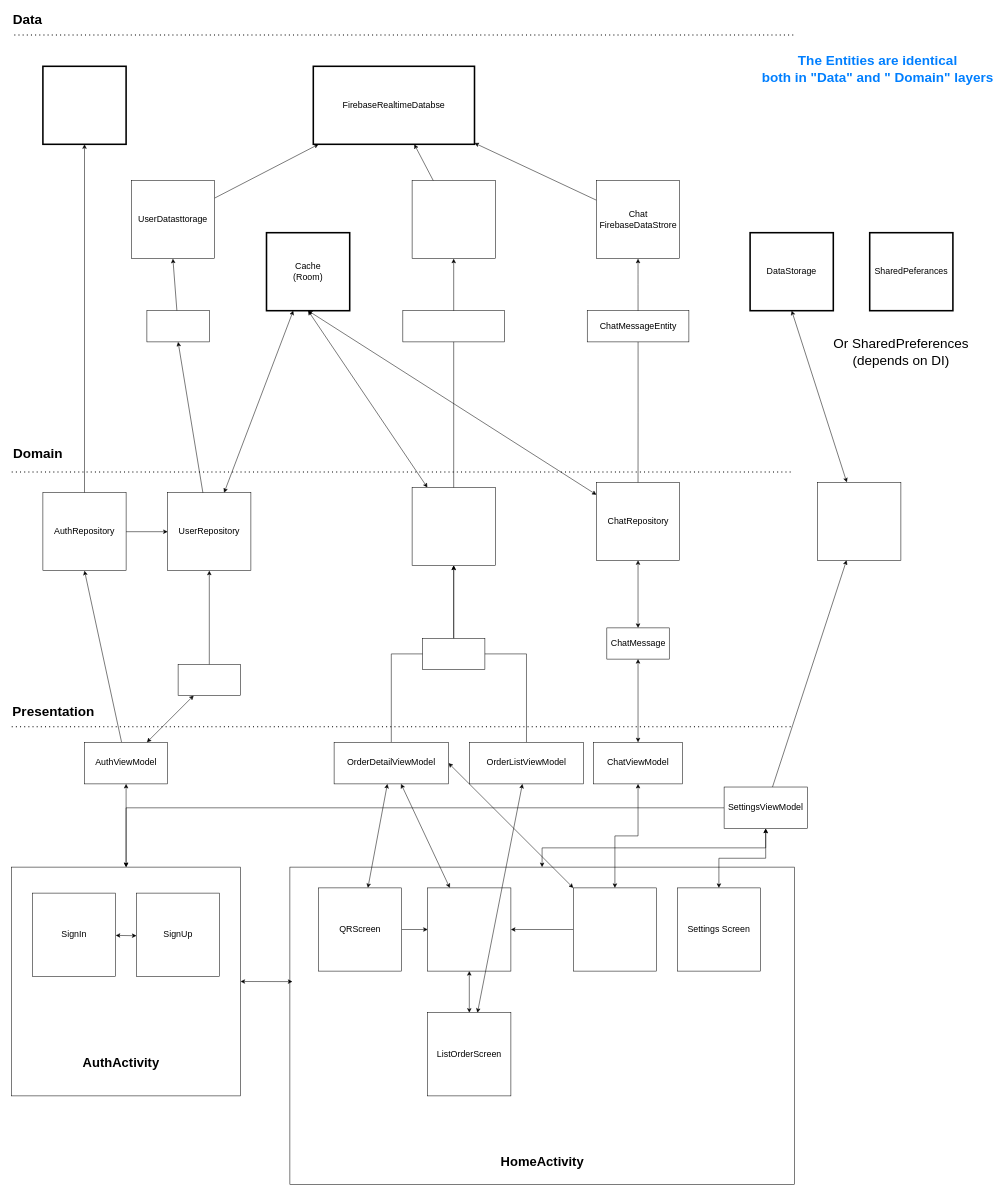
This 1006x1193 diagram has some shape labels left out. The shapes that lost their labels are listed below. From the top down, each one's centre as x and y in pixels, then its label:
At point 84,105: "FirebaseAuth".
At point 453,219: "Order FirebaseDataStrore".
At point 177,326: "UserEntity".
At point 453,326: "OrderEntity".
At point 453,526: "OrdersRepository".
At point 859,521: "SettingsRepository".
At point 453,654: "Order".
At point 209,680: "User".
At point 469,929: "DetailOrderScreen".
At point 614,929: "ChatScreen".
